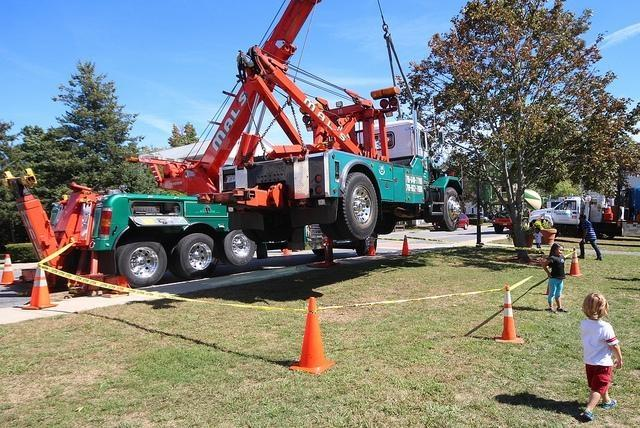car: (492, 211, 514, 234), (458, 212, 469, 229)
truck: (217, 107, 463, 244), (92, 198, 265, 284), (530, 196, 625, 243)
